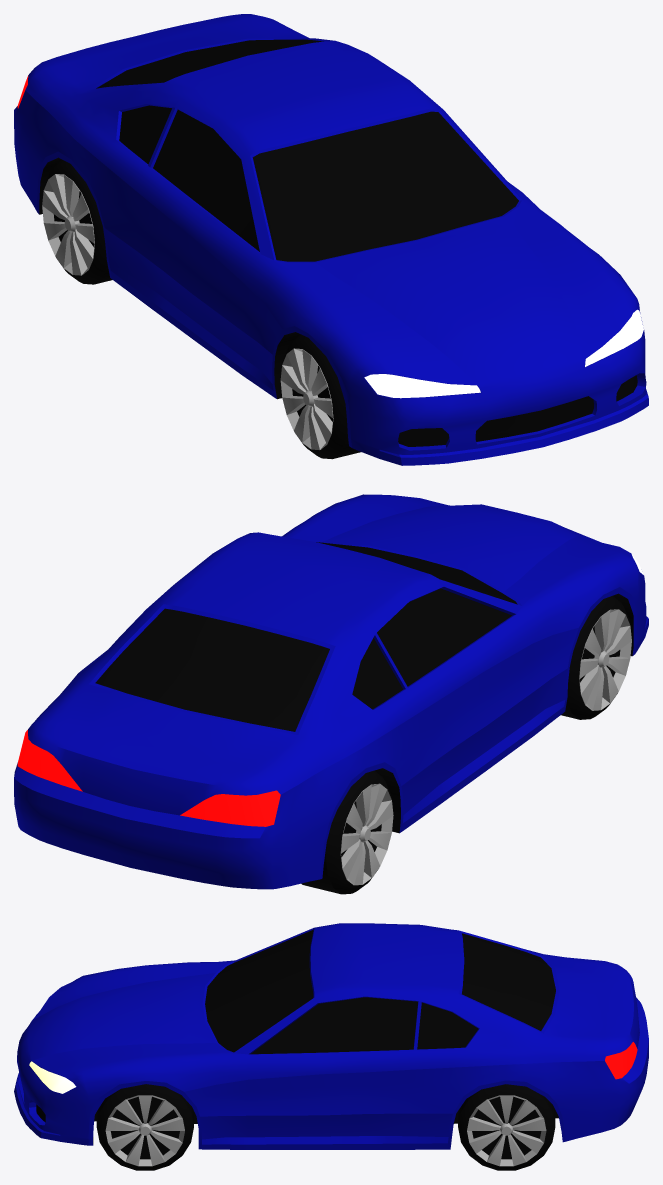
The model's file is car.glb.
3 renders of one model, top to bottom at view 1: azimuth 30°, elevation 25°; view 2: azimuth 150°, elevation 25°; view 3: azimuth 270°, elevation 25°, orthographic. The views are drawn at different scales.
Visible parts, largest first — view 1: Silvia, FR_Wheel, BR_Wheel; view 2: Silvia, BR_Wheel, FR_Wheel; view 3: Silvia, BL_Wheel, FL_Wheel.
Part boxes in pixels (box(x1,y1,x2,y2)): Silvia: box(14, 14, 648, 465); FR_Wheel: box(280, 334, 360, 459); BR_Wheel: box(42, 160, 112, 284); Silvia: box(14, 494, 648, 889); BR_Wheel: box(301, 770, 393, 894); FR_Wheel: box(561, 596, 631, 719); Silvia: box(14, 923, 648, 1149); BL_Wheel: box(458, 1084, 555, 1170); FL_Wheel: box(96, 1084, 193, 1170).
Bounding box in the file's own units: 1.86 × 1.3 × 4.49.
